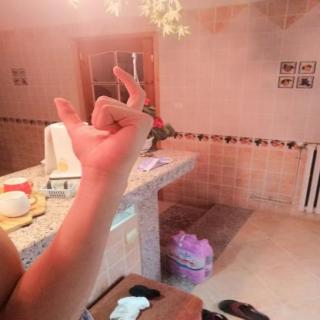NOON: (44, 57, 168, 186)
